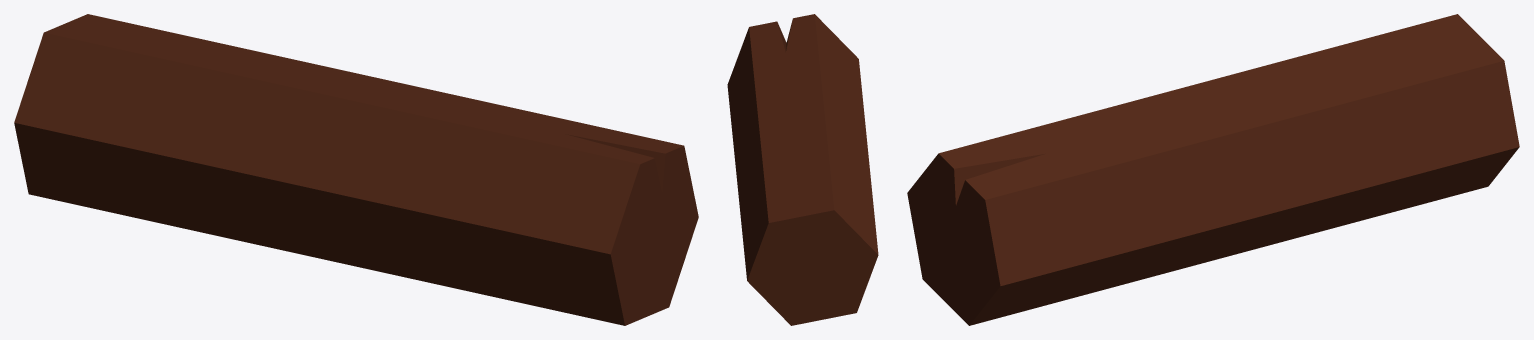
The model's file is Wood.fbx.
3 views of the same model, side by side, from view 1: azimuth 30°, elevation 25°; view 2: azimuth 150°, elevation 25°; view 3: azimuth 270°, elevation 25° (orthographic). The views are drawn at different scales.
Visible parts, largest first — view 1: Wood; view 2: Wood; view 3: Wood.
Boxes of the visible parts, box(x1,y1,x2,y2) form: Wood: box(14, 14, 698, 325); Wood: box(727, 14, 878, 325); Wood: box(907, 14, 1519, 325).
Size of the model in its own units: 54.4 by 19.17 by 69.9.
